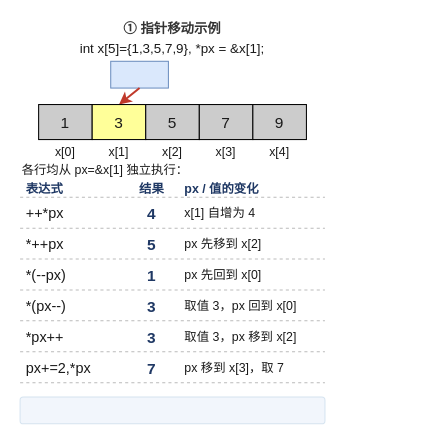
The diagram is 447 pixels wide and 442 high, and some of its shapes have lost their labels. The shapes that lost their labels are listed below. From the top down, each one's centre as x and y in pixels, then its label:
At [139,74]: "px".
At [172,410]: "前置先移指针 · 后置先取值 · 均从 &x[1] 独立执行".
